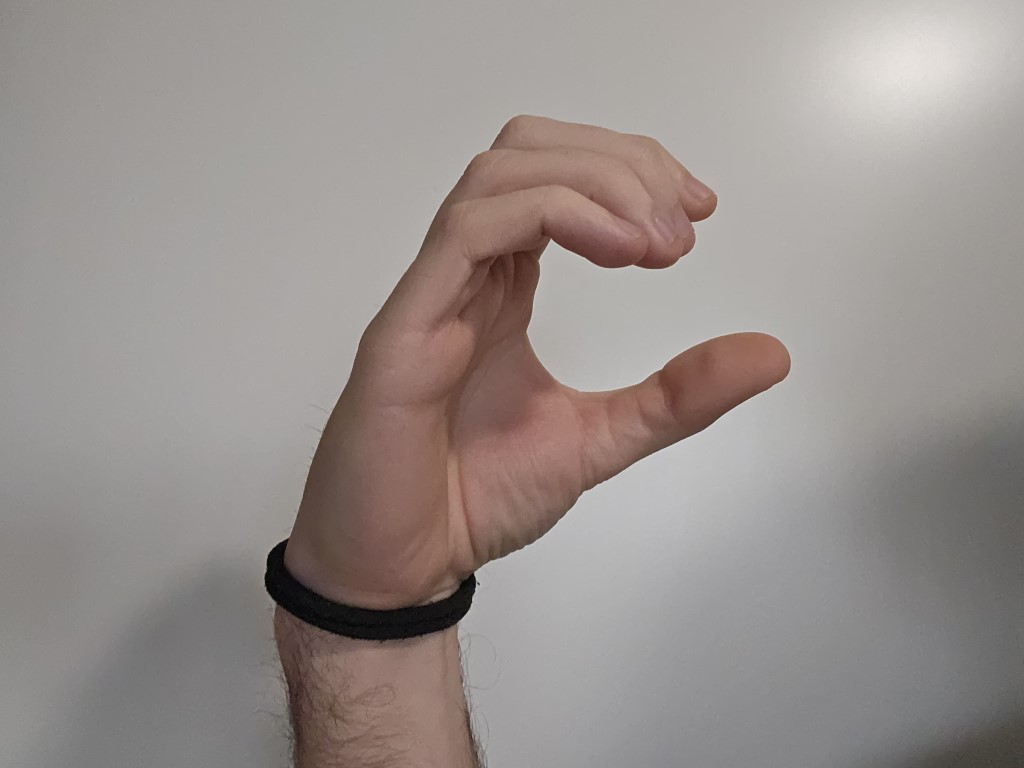c: (298, 73, 830, 574)
